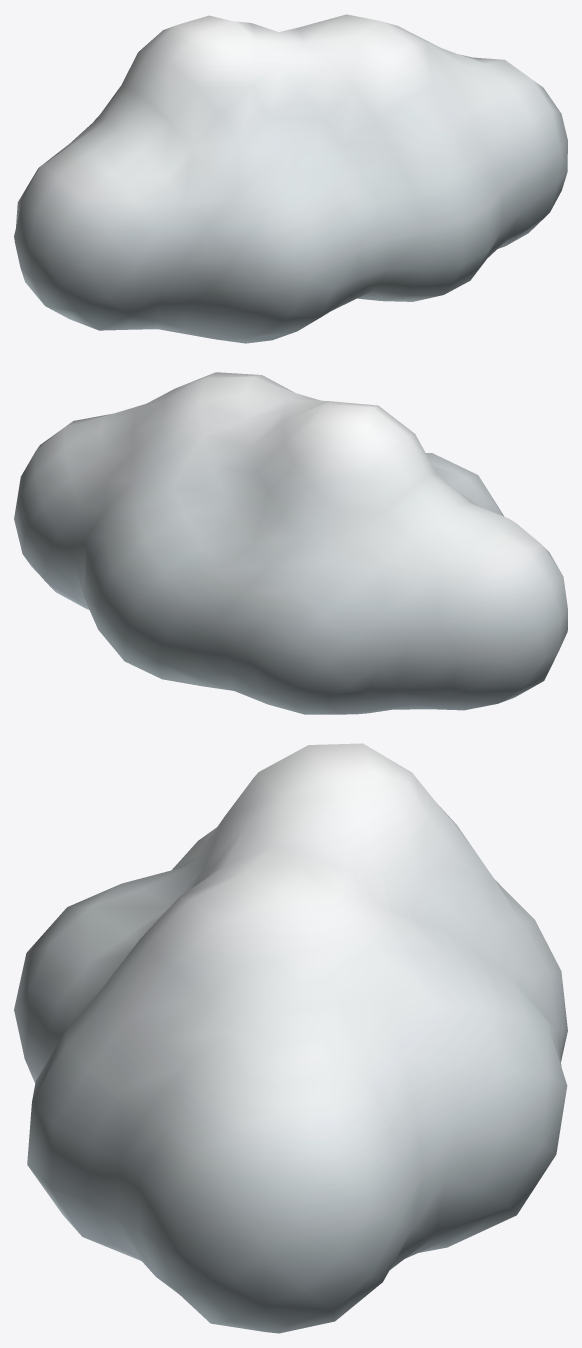
File: cloud_big.glb
The picture shows the model from 3 angles, top to bottom: view 1: azimuth 30°, elevation 25°; view 2: azimuth 150°, elevation 25°; view 3: azimuth 270°, elevation 25°; orthographic projection. The views are drawn at different scales.
Visible parts, largest first — view 1: cloud_big; view 2: cloud_big; view 3: cloud_big.
Boxes of the visible parts, x1,y1,x2,y2 form: cloud_big: [14, 14, 567, 343]; cloud_big: [14, 372, 567, 714]; cloud_big: [14, 743, 567, 1333].
Size of the model in its own units: 3.61 by 1.95 by 2.24.
1 material, 1 textured.
